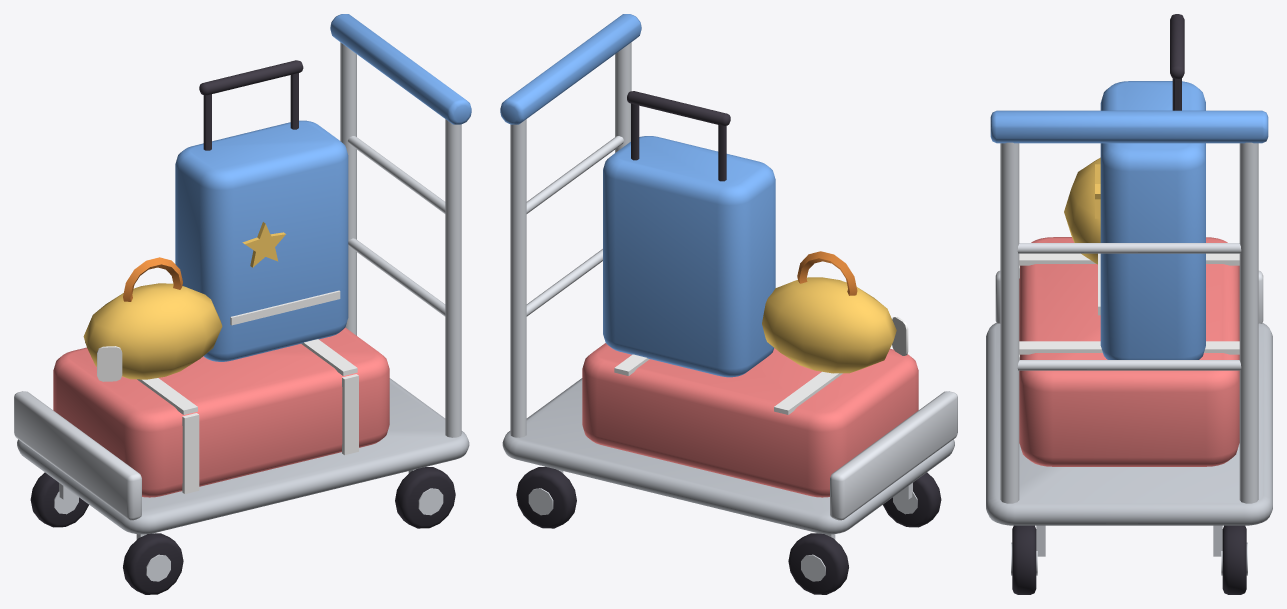
File: luggage_cart.glb
3 renders of one model, left to right at view 1: azimuth 30°, elevation 25°; view 2: azimuth 150°, elevation 25°; view 3: azimuth 270°, elevation 25°, orthographic. The views are drawn at different scales.
Parts seen in each view (by area): view 1: luggage_cart; view 2: luggage_cart; view 3: luggage_cart.
Boxes of the visible parts, box(x1,y1,x2,y2) form: luggage_cart: box(14, 14, 471, 594); luggage_cart: box(500, 14, 957, 594); luggage_cart: box(986, 14, 1272, 594).
Size of the model in its own units: 0.95 by 1.13 by 0.6.
